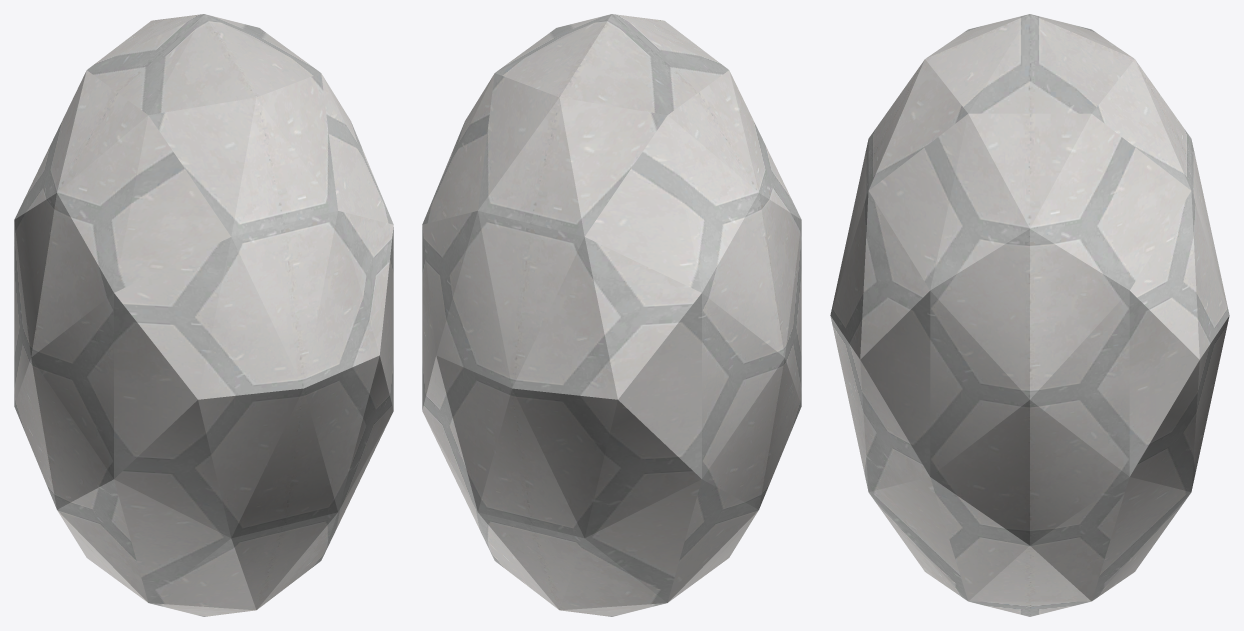
The model's file is player_temp.obj.
The picture shows the model from 3 angles, left to right: view 1: azimuth 30°, elevation 25°; view 2: azimuth 150°, elevation 25°; view 3: azimuth 270°, elevation 25°; orthographic projection.
Bounding box in the file's own units: 0.6 × 1 × 0.6.
